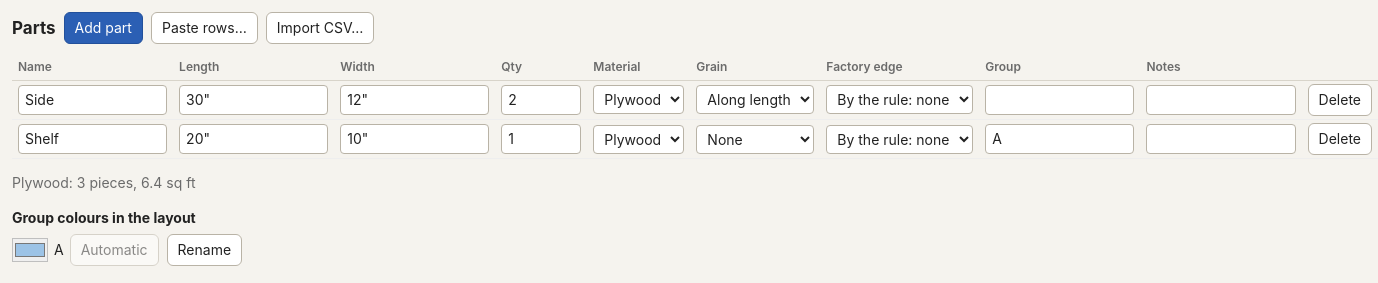
Test: PartsTab › commits an edited length and lowers the quantity, which takes the extra copy off the sheet
This screenshot has width=1378, height=283.
Replace the text in the field named "Length of Side" with "32". click: (254, 100)
box: [179, 85, 328, 115]
Then press Enter
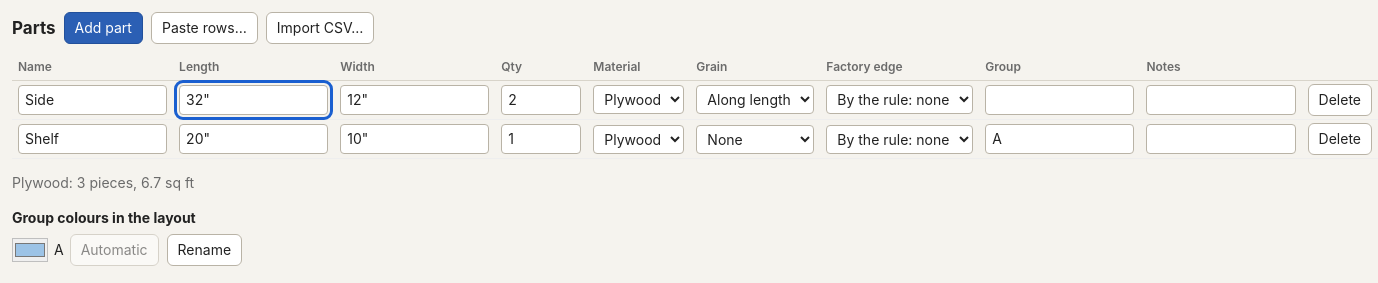
Replace the text in the field named "Quantity of Side" with "1". click: (541, 100)
box: [501, 85, 581, 115]
Then press Enter
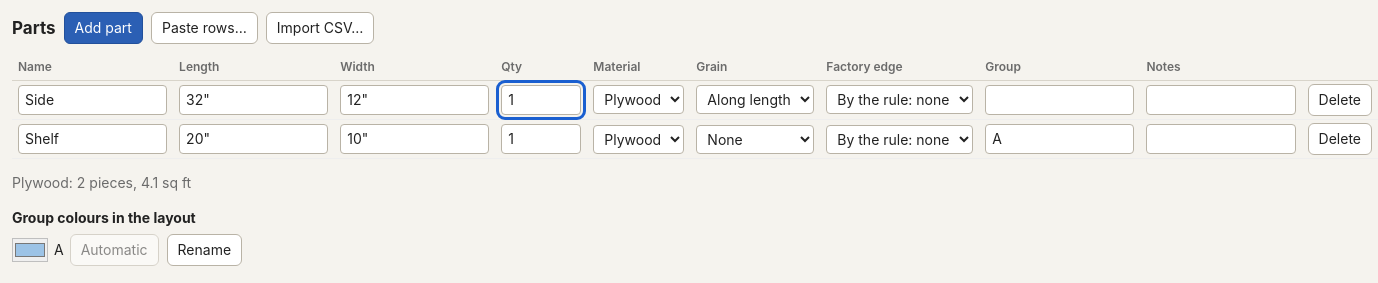
Now the list named "Totals" shows "Plywood: 2 pieces", box [12, 174, 191, 191]
